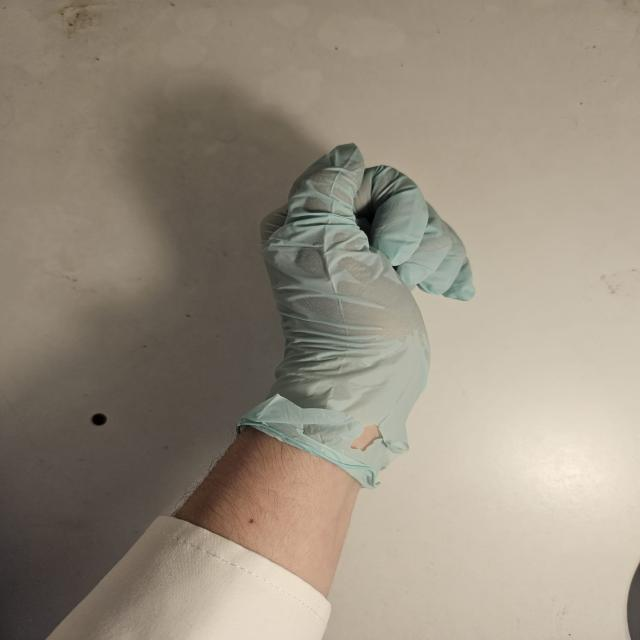gloves_damaged: (233, 141, 478, 491)
